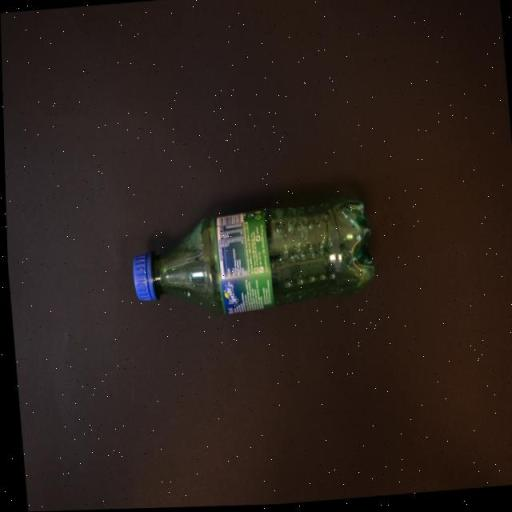plastic: (127, 197, 377, 327)
